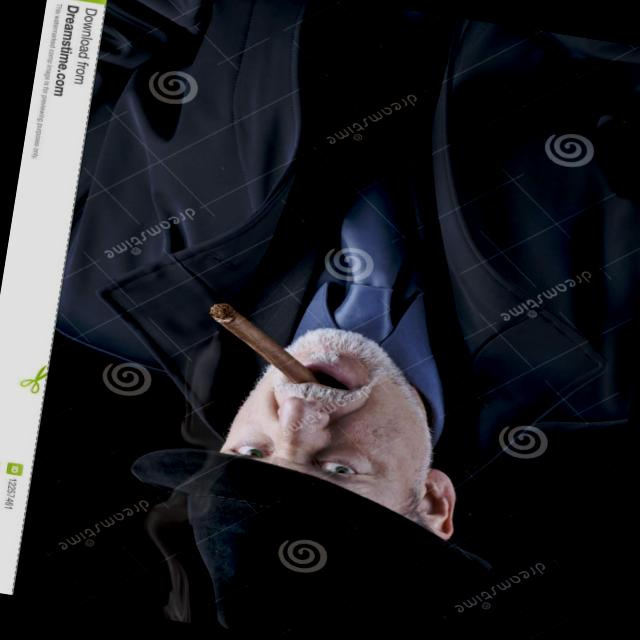cigarette: (178, 287, 342, 393)
